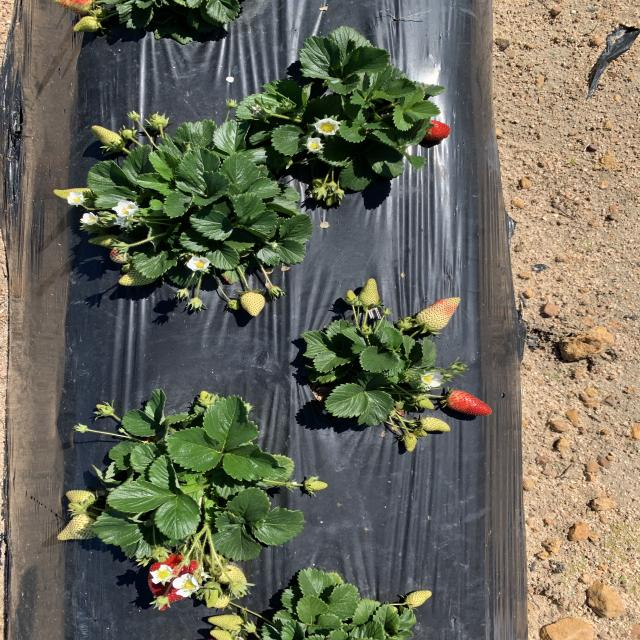unripe: (148, 553, 203, 611), (445, 391, 493, 416), (421, 119, 451, 142)
